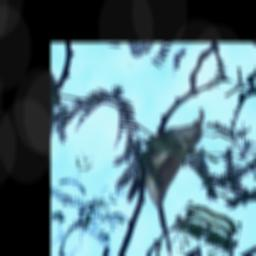Cuckoo: (100, 94, 235, 256)
